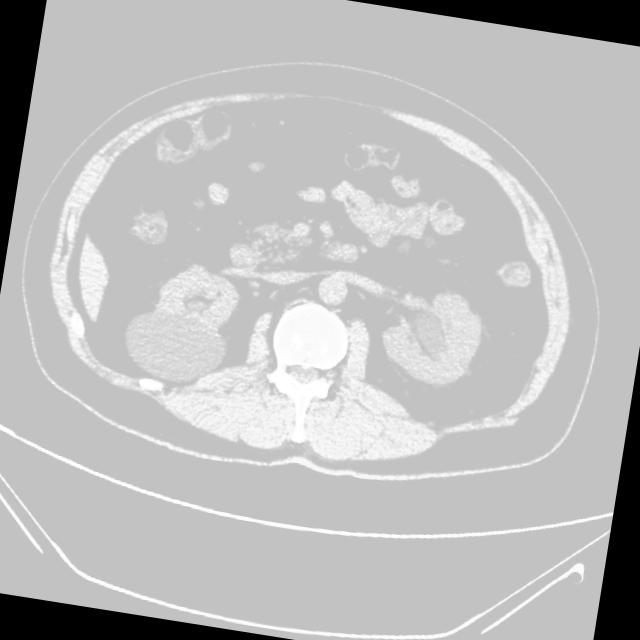cysts: (20, 44, 609, 507)
